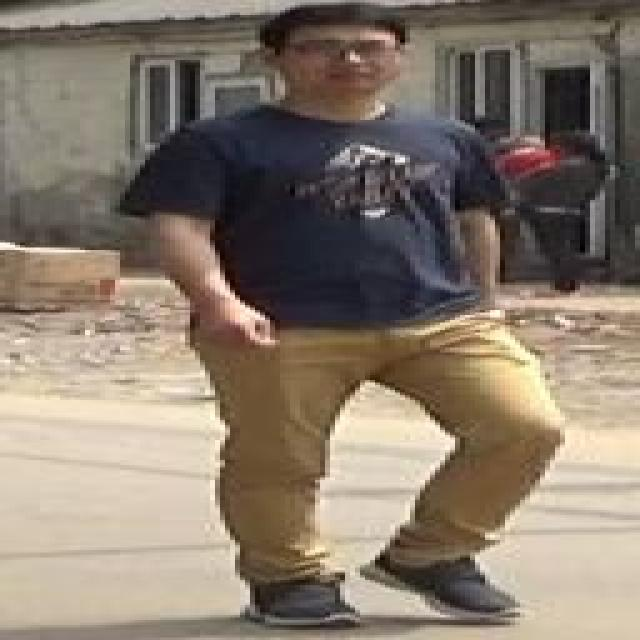adult: (115, 1, 548, 622), (541, 136, 610, 285)
child: (494, 133, 549, 193)
